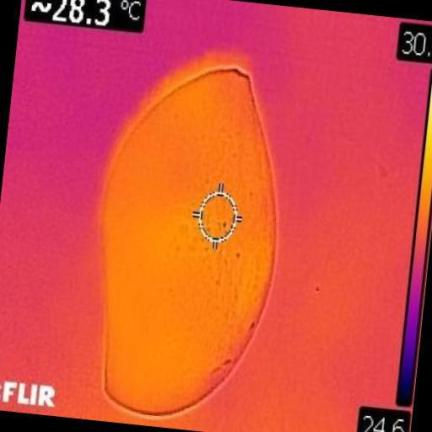mango: (101, 66, 273, 413)
